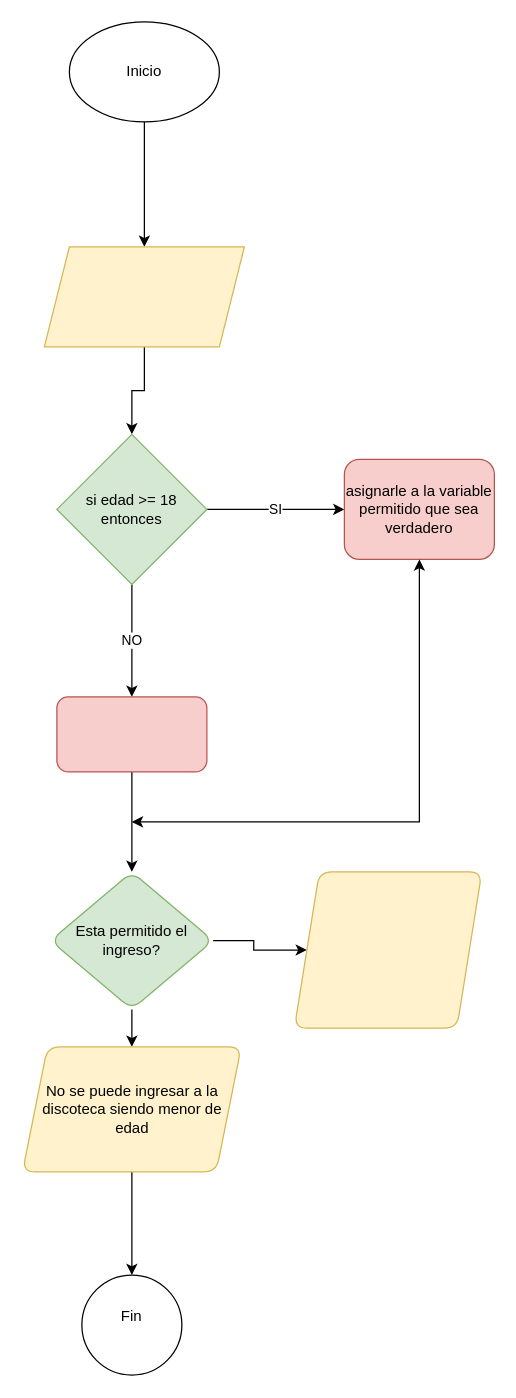
Image size: 516x1398. Some labels were removed from this diagram. The centre of each missing label's shape, as x and y in pixels:
asignarle la variable permitido que sea falso: pixel 131 734
Mostrar mensaje: "El cliente puede ingresar a la discoteca": pixel 387 949
mostrar msje: Por favor, ingrese la edad del cliente:: pixel 143 296
